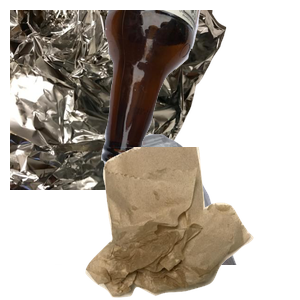glass: (99, 10, 300, 170)
metal: (10, 10, 229, 190)
plastic: (55, 120, 284, 300)
trash: (83, 147, 300, 300)
